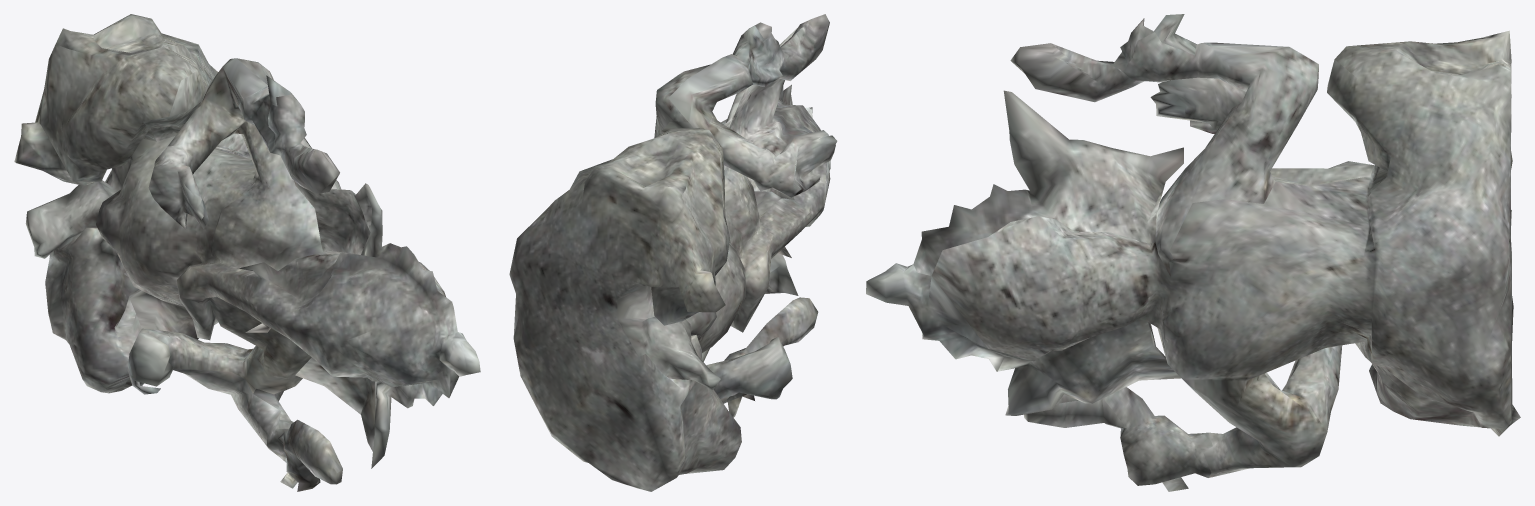
File: ganesha2.gltf
3 views of the same model, side by side, from view 1: azimuth 30°, elevation 25°; view 2: azimuth 150°, elevation 25°; view 3: azimuth 270°, elevation 25° (orthographic). The views are drawn at different scales.
Visible parts, largest first — view 1: Ganesha_LP_cleanUV; view 2: Ganesha_LP_cleanUV; view 3: Ganesha_LP_cleanUV.
Part boxes in pixels (left/top/right/bottom): Ganesha_LP_cleanUV: left=14, top=14, right=480, bottom=491; Ganesha_LP_cleanUV: left=509, top=14, right=837, bottom=491; Ganesha_LP_cleanUV: left=866, top=14, right=1520, bottom=491.
Bounding box in the file's own units: 3.39 × 5.78 × 7.34.
1 material, 1 textured.
